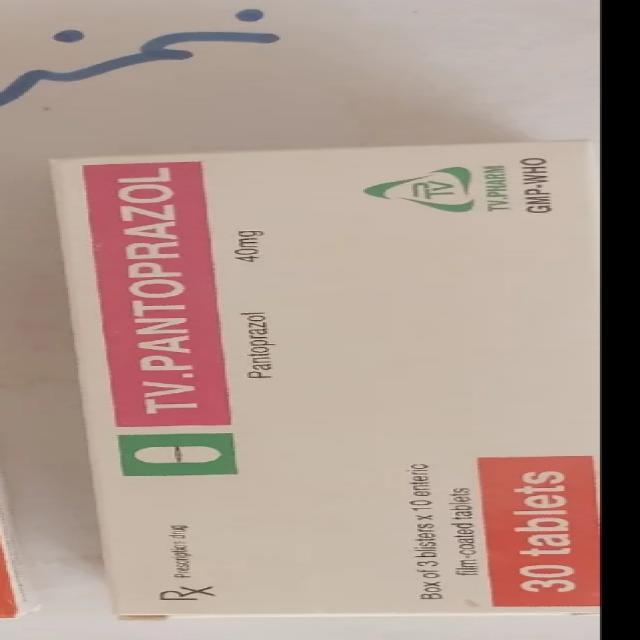drug-name: (112, 164, 203, 416)
